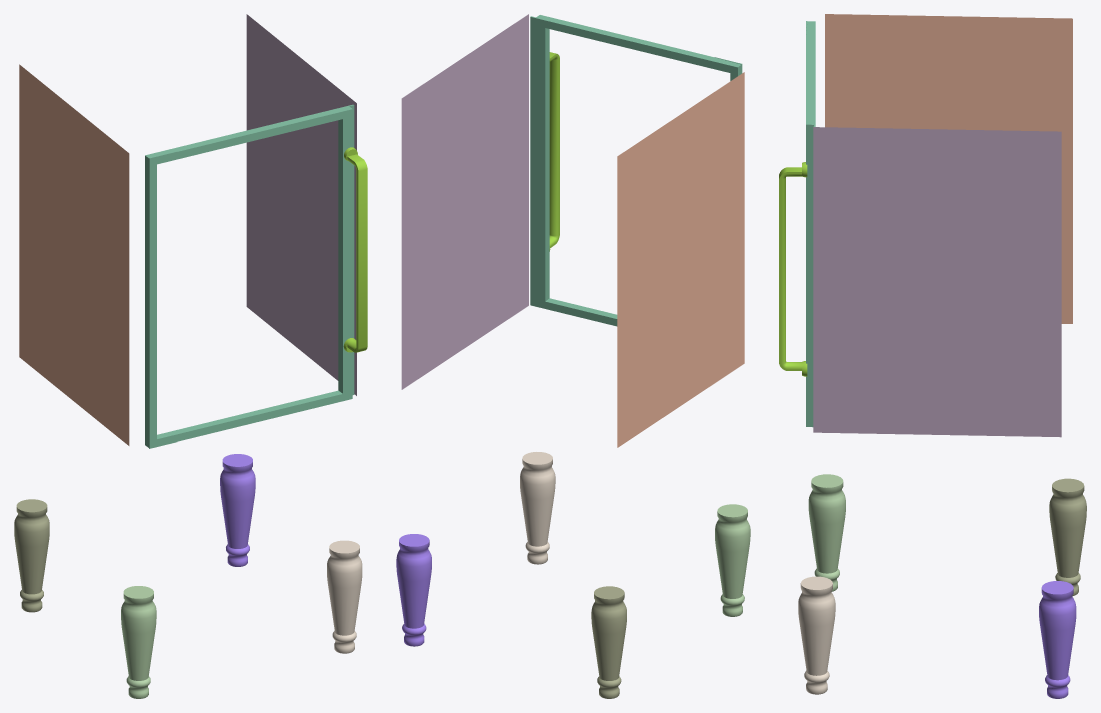
The picture shows the model from 3 angles, left to right: view 1: azimuth 30°, elevation 25°; view 2: azimuth 150°, elevation 25°; view 3: azimuth 270°, elevation 25°; orthographic projection. The views are drawn at different scales.
Parts seen in each view (by area): view 1: poppy_case_glass_MAT_0, poppy_case_glass_MAT_0.001, split_parent_3, poppy_case_wood_MAT_0.312, poppy_case_wood_MAT_0.180, poppy_case_wood_MAT_0.048, poppy_case_wood_MAT_0.444, poppy_case_door_yellowplastic_Isaac_MAT_0; view 2: poppy_case_glass_MAT_0, poppy_case_glass_MAT_0.001, split_parent_3, poppy_case_wood_MAT_0.048, poppy_case_wood_MAT_0.444, poppy_case_wood_MAT_0.312, poppy_case_wood_MAT_0.180, poppy_case_door_yellowplastic_Isaac_MAT_0; view 3: poppy_case_glass_MAT_0.001, poppy_case_glass_MAT_0, poppy_case_wood_MAT_0.180, poppy_case_wood_MAT_0.444, split_parent_3, poppy_case_wood_MAT_0.312, poppy_case_wood_MAT_0.048, poppy_case_door_yellowplastic_Isaac_MAT_0.
Part boxes in pixels (x1=…): poppy_case_glass_MAT_0: x1=19, y1=64, x2=129, y2=445; poppy_case_glass_MAT_0.001: x1=246, y1=14, x2=356, y2=395; split_parent_3: x1=145, y1=104, x2=354, y2=448; poppy_case_wood_MAT_0.312: x1=14, y1=499, x2=49, y2=612; poppy_case_wood_MAT_0.180: x1=327, y1=540, x2=362, y2=653; poppy_case_wood_MAT_0.048: x1=121, y1=586, x2=156, y2=698; poppy_case_wood_MAT_0.444: x1=220, y1=454, x2=255, y2=566; poppy_case_door_yellowplastic_Isaac_MAT_0: x1=343, y1=147, x2=367, y2=352; poppy_case_glass_MAT_0: x1=617, y1=72, x2=744, y2=447; poppy_case_glass_MAT_0.001: x1=401, y1=14, x2=528, y2=389; split_parent_3: x1=530, y1=15, x2=742, y2=326; poppy_case_wood_MAT_0.048: x1=715, y1=504, x2=750, y2=616; poppy_case_wood_MAT_0.444: x1=396, y1=534, x2=431, y2=646; poppy_case_wood_MAT_0.312: x1=591, y1=586, x2=626, y2=698; poppy_case_wood_MAT_0.180: x1=520, y1=452, x2=555, y2=564; poppy_case_door_yellowplastic_Isaac_MAT_0: x1=549, y1=52, x2=559, y2=251; poppy_case_glass_MAT_0.001: x1=813, y1=127, x2=1061, y2=437; poppy_case_glass_MAT_0: x1=825, y1=14, x2=1072, y2=323; poppy_case_wood_MAT_0.180: x1=798, y1=576, x2=835, y2=694; poppy_case_wood_MAT_0.444: x1=1039, y1=581, x2=1076, y2=698; split_parent_3: x1=806, y1=21, x2=815, y2=427; poppy_case_wood_MAT_0.312: x1=1049, y1=478, x2=1086, y2=596; poppy_case_wood_MAT_0.048: x1=808, y1=474, x2=845, y2=591; poppy_case_door_yellowplastic_Isaac_MAT_0: x1=779, y1=162, x2=807, y2=376.
Size of the model in its own units: 0.4618 by 1 by 0.4903.
